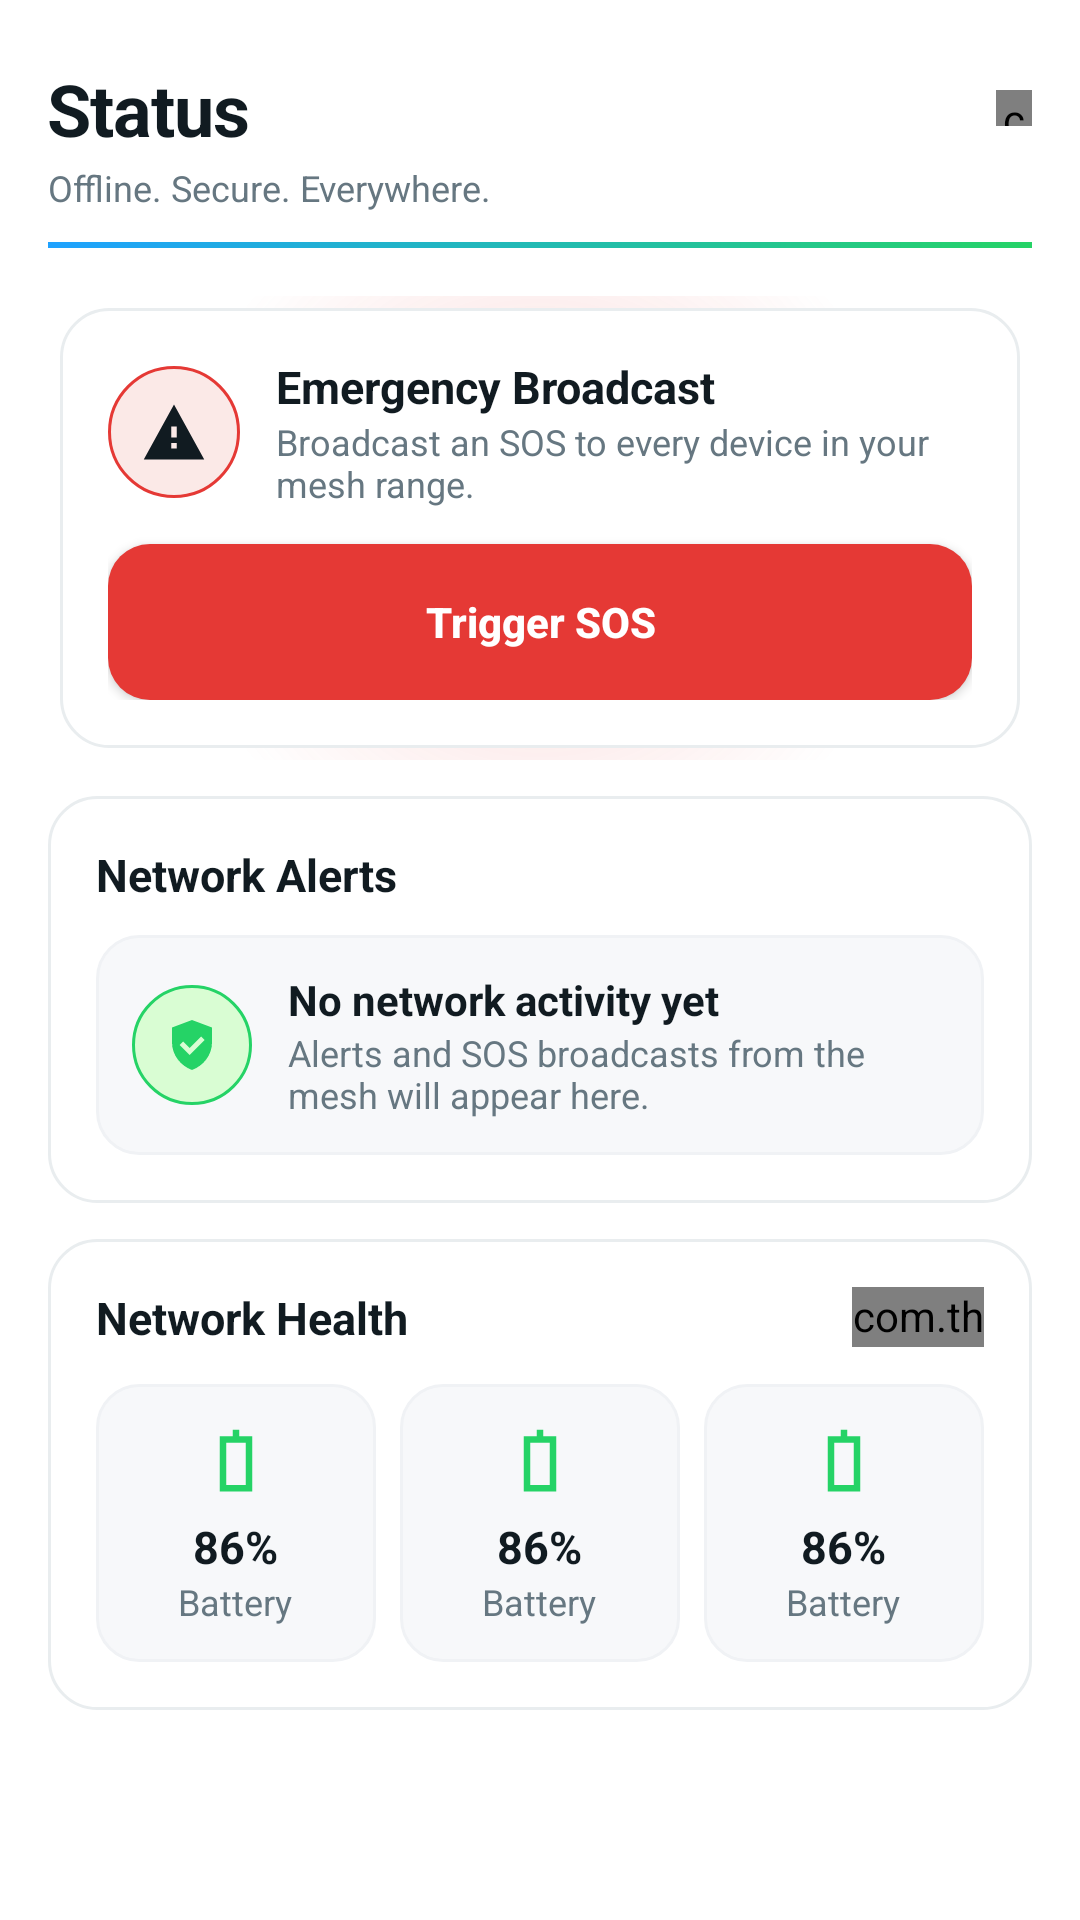

Icon click points for this 1080×1920 phone screenshot, format (x=x, y=y):
alert: (x=174, y=432)
shield: (x=192, y=1045)
